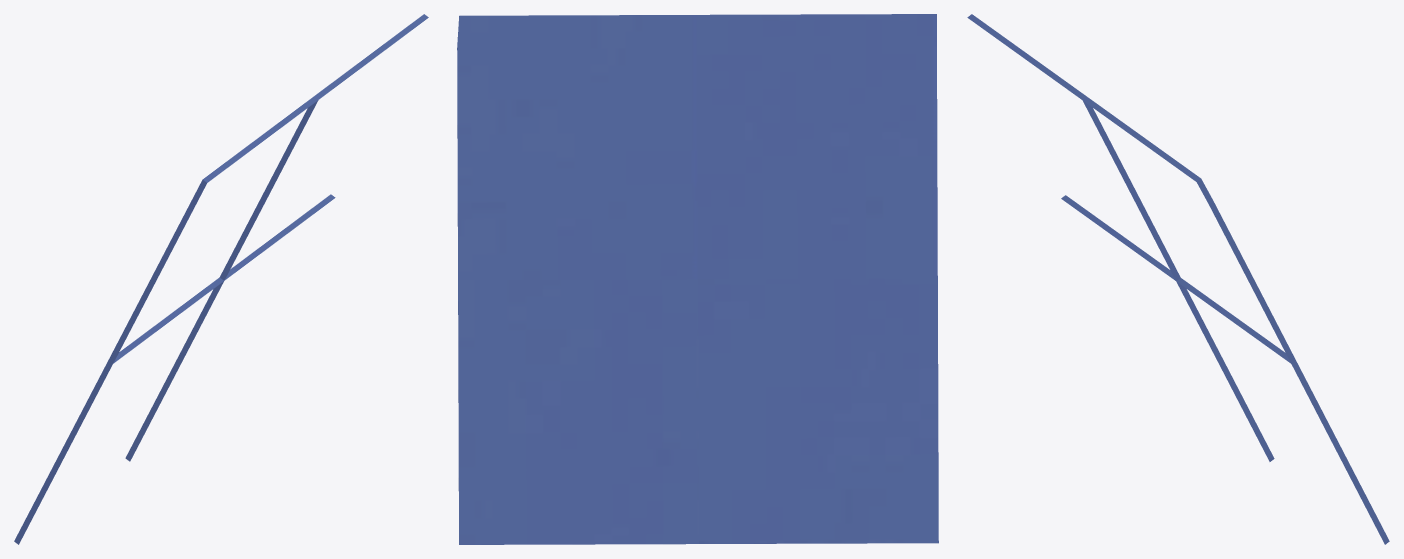
3 renders of one model, left to right at view 1: azimuth 30°, elevation 25°; view 2: azimuth 150°, elevation 25°; view 3: azimuth 270°, elevation 25°, orthographic. The views are drawn at different scales.
Bounding box in the file's own units: 19680 × 17763 × 16546.
1 material, 1 textured.
